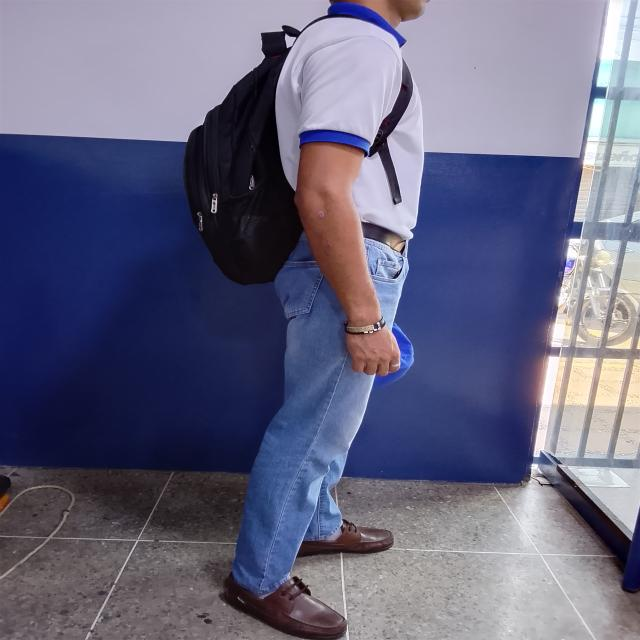uniforme_superior: (274, 2, 424, 240)
